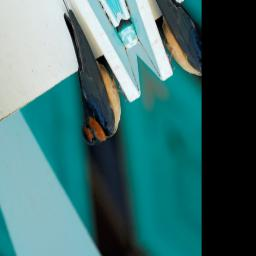Swallow: (23, 0, 138, 157)
